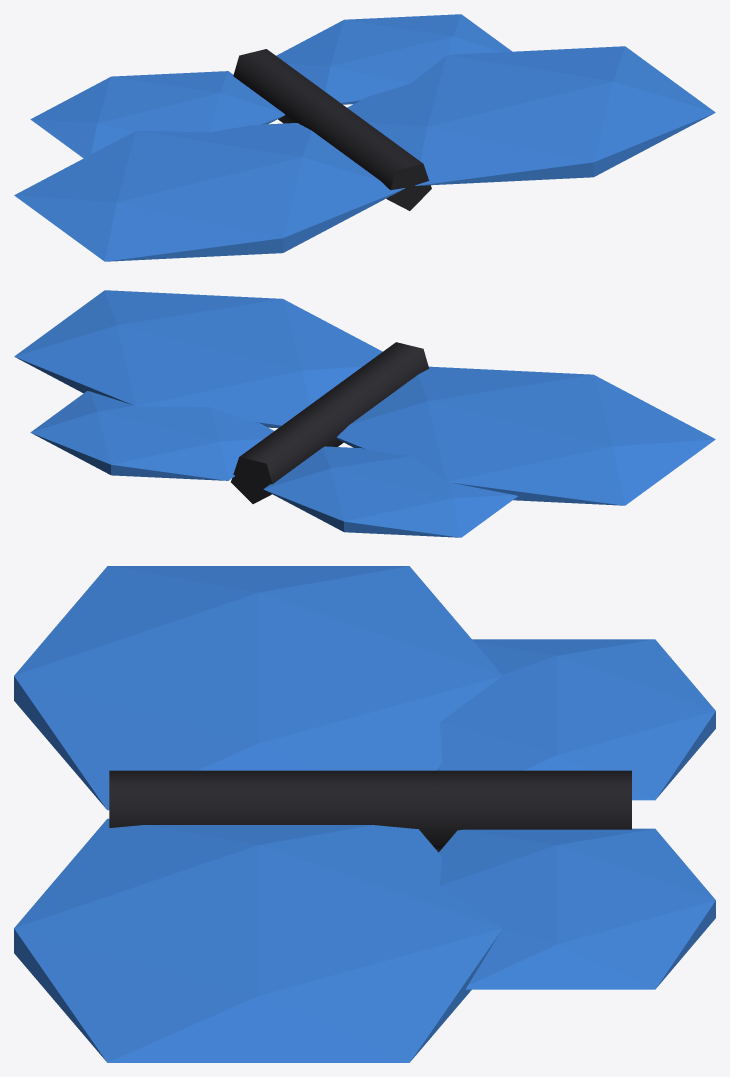
The model's file is mariposa_v3.glb.
3 views of the same model, one above another, from view 1: azimuth 30°, elevation 25°; view 2: azimuth 150°, elevation 25°; view 3: azimuth 270°, elevation 25° (orthographic). The views are drawn at different scales.
Parts seen in each view (by area): view 1: ala_sup (×2), ala_inf (×2), cuerpo; view 2: ala_sup (×2), ala_inf (×2), cuerpo; view 3: ala_sup (×2), ala_inf (×2), cuerpo.
Part boxes in pixels (x1,y1,x2,y2): ala_sup (×2): [14, 46, 715, 261]; ala_inf (×2): [30, 14, 511, 158]; cuerpo: [233, 49, 431, 210]; ala_sup (×2): [14, 290, 715, 505]; ala_inf (×2): [30, 391, 517, 537]; cuerpo: [231, 342, 428, 503]; ala_sup (×2): [14, 566, 501, 1062]; ala_inf (×2): [438, 639, 715, 989]; cuerpo: [109, 770, 631, 852].
Size of the model in its own units: 0.3148 by 0.0217 by 0.188.
